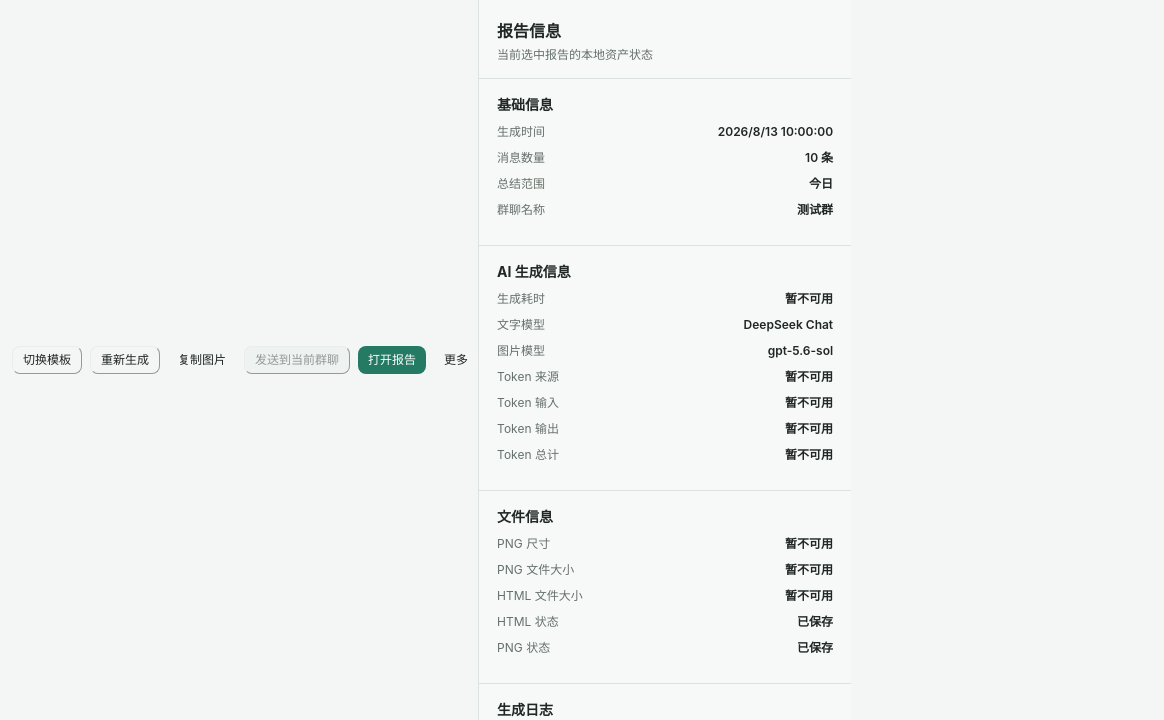
Scenario: daily report controls › keeps the file action inside More and labels both AI model roles
Expected: the menu item "生成微信卡片" is not shown
Click the button "更多": (456, 360) 434,346 -> 478,374
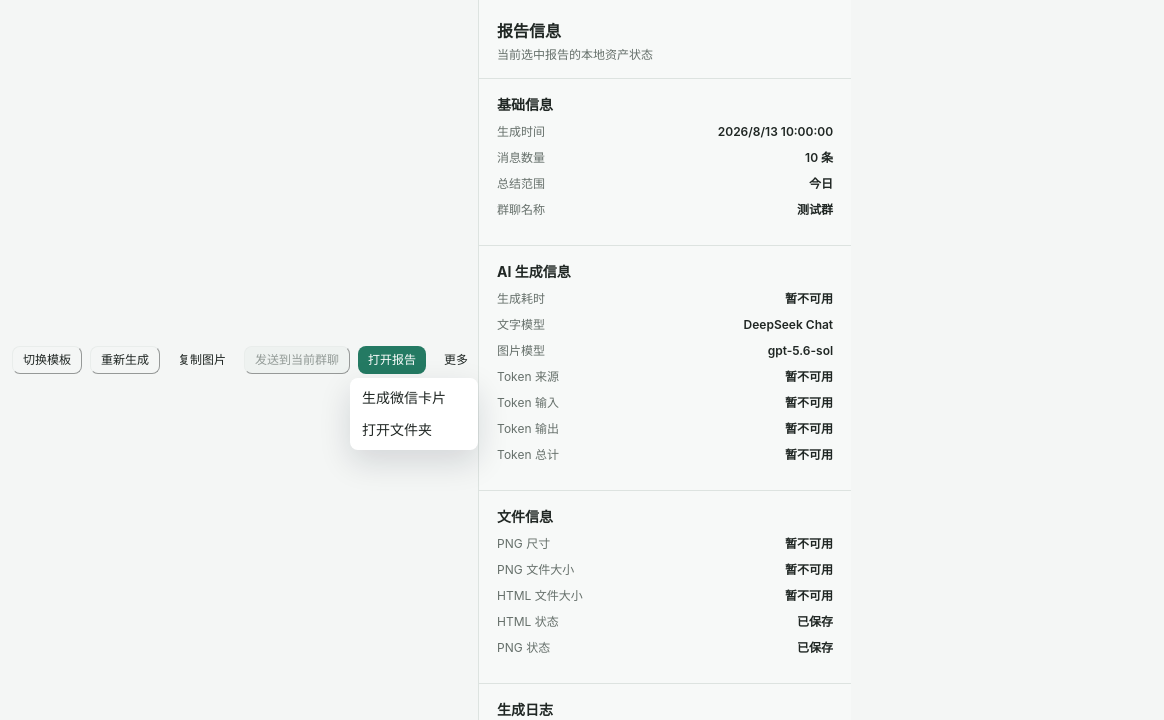
Expected: the text "文字模型" is shown, 497,316 -> 545,334
Expected: the menu item "生成微信卡片" is shown, 362,389 -> 446,406
Expected: the menu item "打开文件夹" is shown, 362,421 -> 432,438
Press Escape
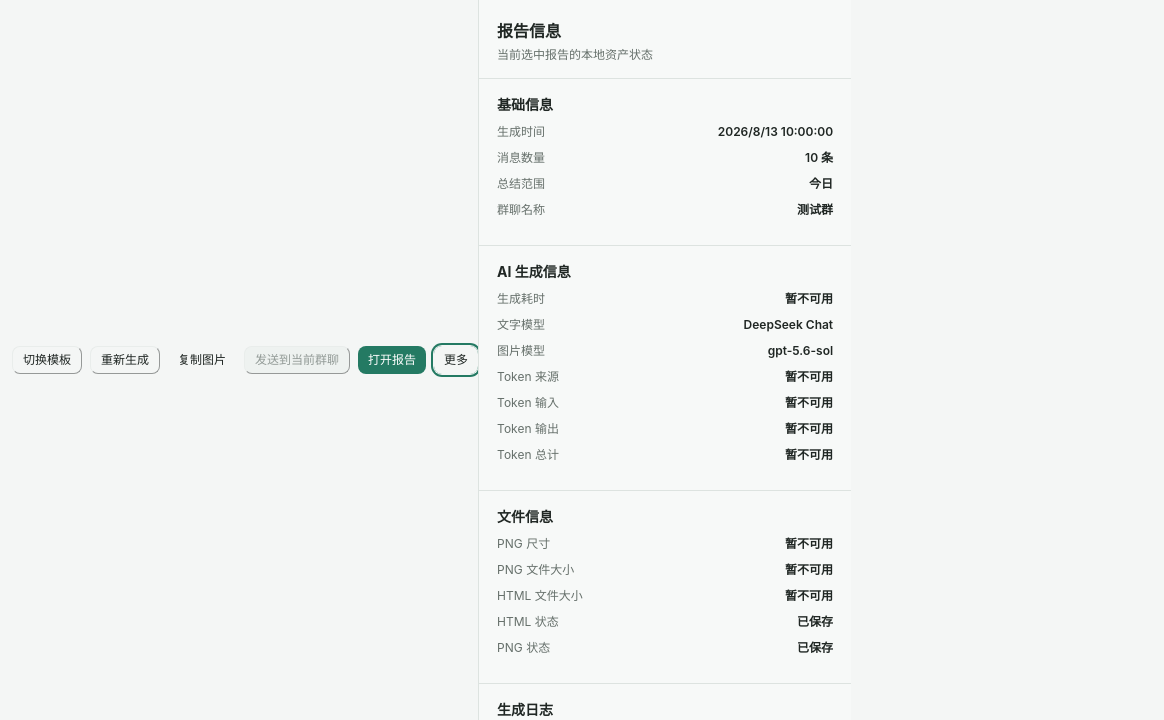
Expected: the menu item "生成微信卡片" is gone
